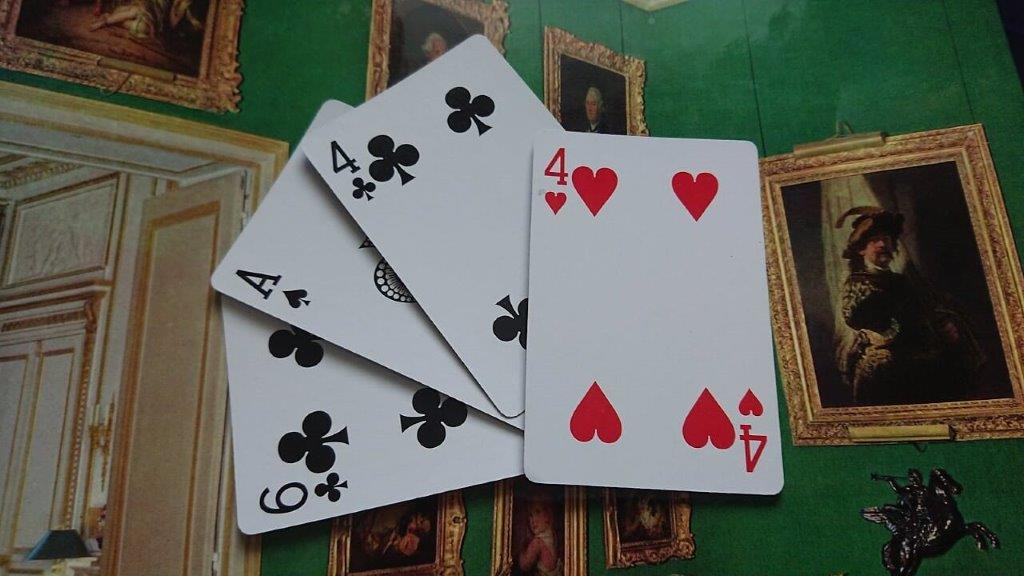4C: (323, 135, 379, 206)
4H: (541, 144, 571, 218)
